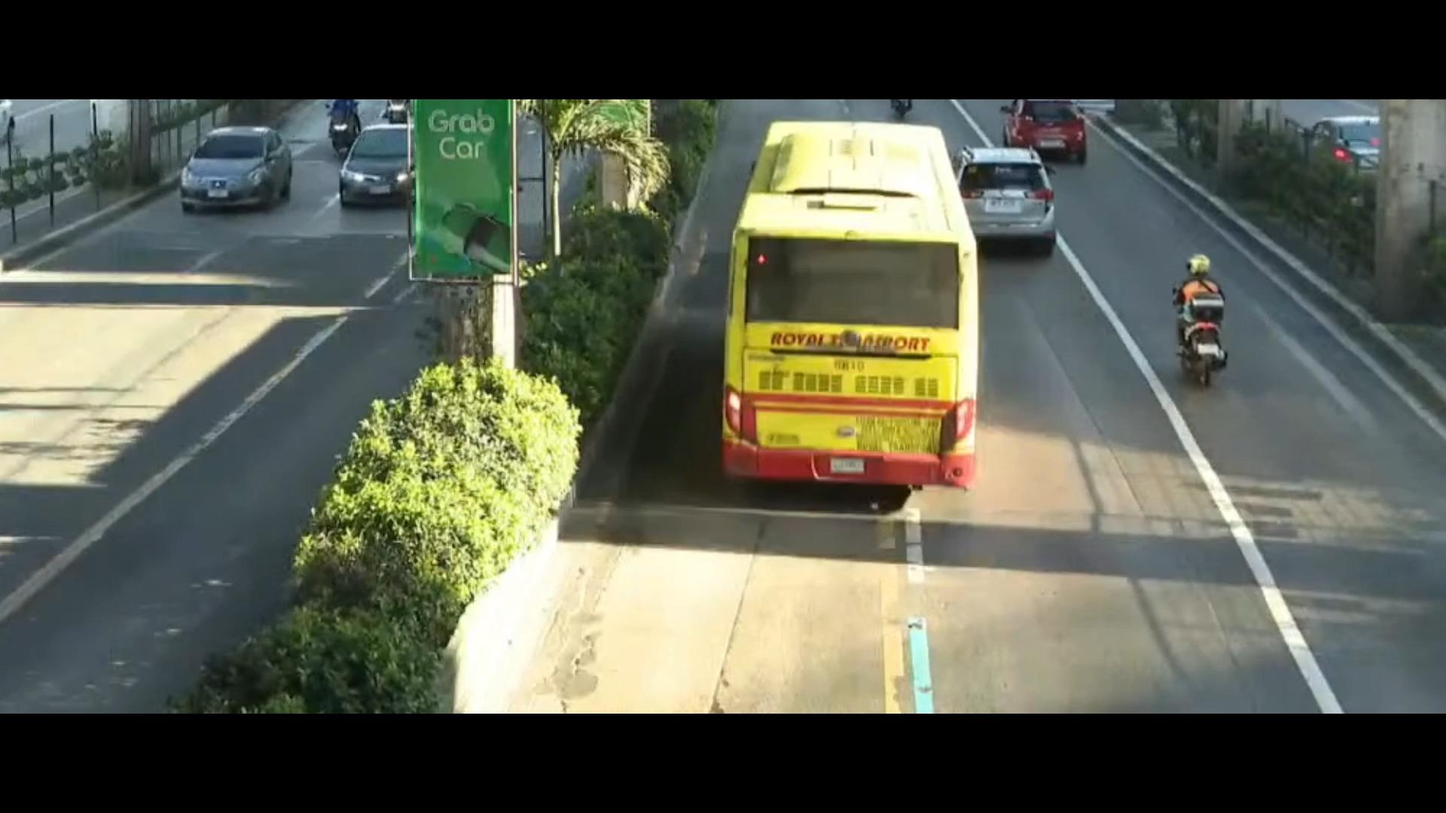Bus: (689, 104, 1013, 517)
Motorcycle: (1150, 245, 1271, 411), (310, 102, 366, 166)
SUV: (950, 123, 1065, 276), (998, 96, 1106, 158)
Sedan: (173, 121, 298, 223), (332, 124, 432, 219)
